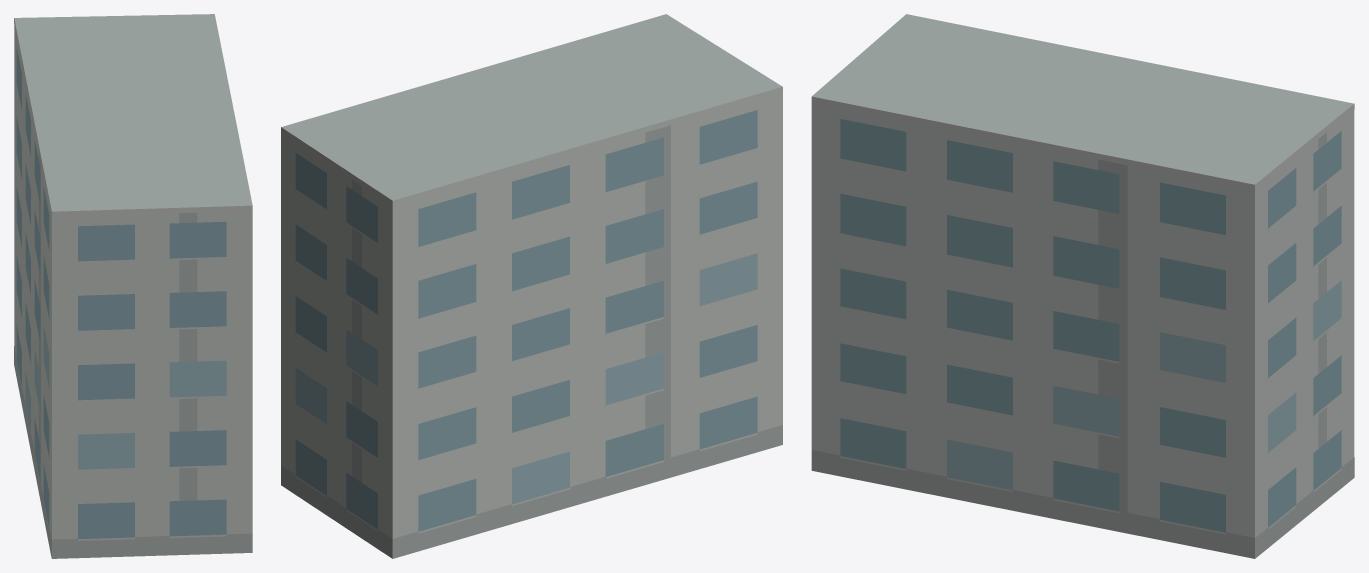
Rendered from survey-upis-32827463.glb.
The picture shows the model from 3 angles, left to right: view 1: azimuth 30°, elevation 25°; view 2: azimuth 150°, elevation 25°; view 3: azimuth 270°, elevation 25°; orthographic projection. The views are drawn at different scales.
Parts seen in each view (by area): view 1: survey-upis-32827463.tmp; view 2: survey-upis-32827463.tmp; view 3: survey-upis-32827463.tmp.
Part boxes in pixels (x1=…): survey-upis-32827463.tmp: x1=14, y1=14, x2=252, y2=558; survey-upis-32827463.tmp: x1=281, y1=14, x2=782, y2=558; survey-upis-32827463.tmp: x1=811, y1=14, x2=1354, y2=558.
Size of the model in its own units: 14.88 by 15.2 by 19.99.
